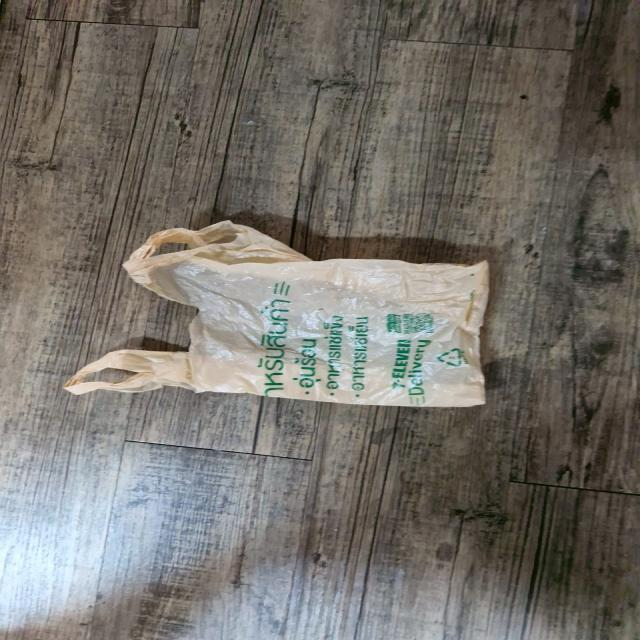plastic bag: (57, 218, 489, 412)
